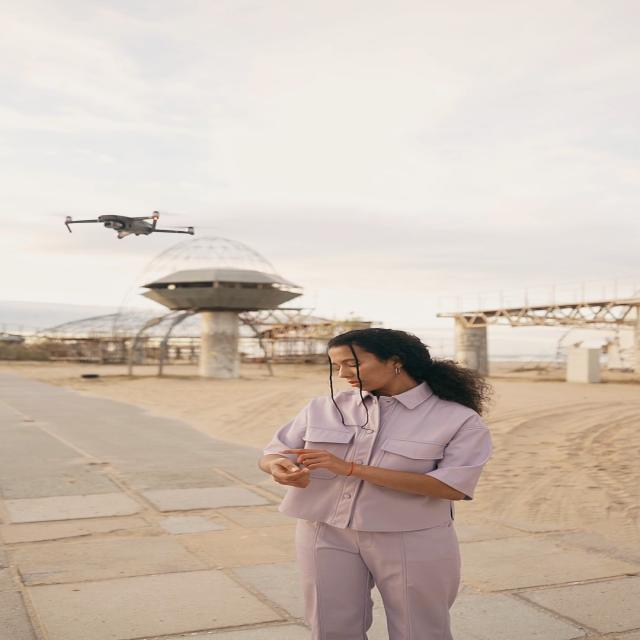Drone: (55, 202, 202, 244)
